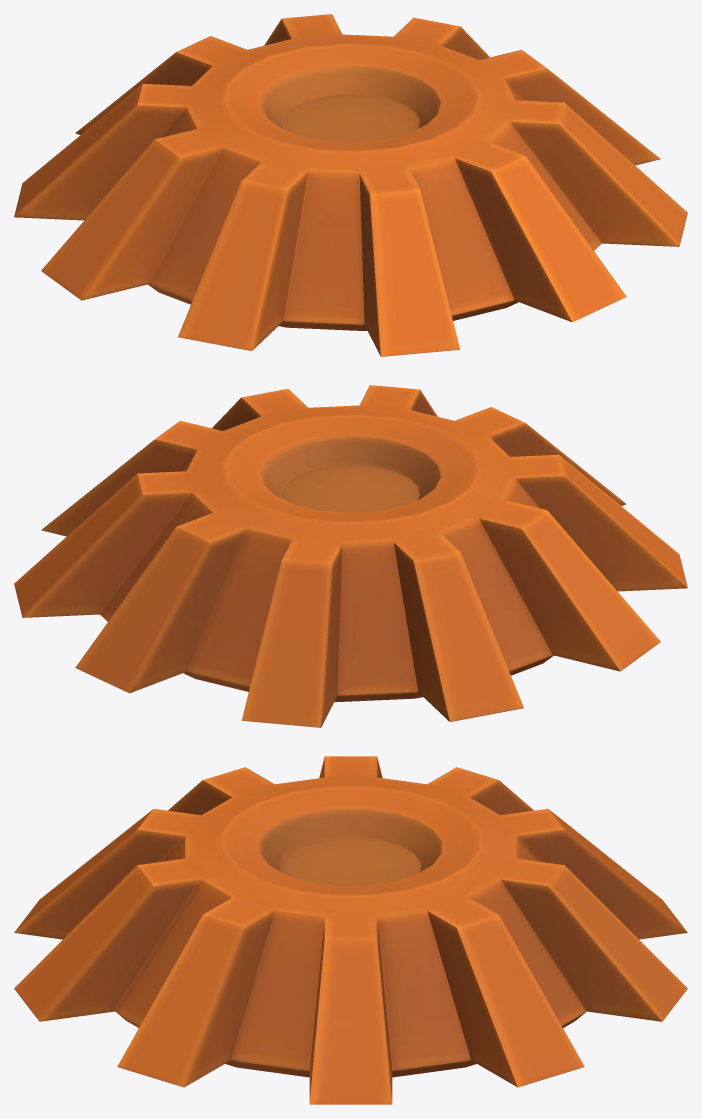
Rendered from obj_gear05_base.gltf.
The picture shows the model from 3 angles, top to bottom: view 1: azimuth 30°, elevation 25°; view 2: azimuth 150°, elevation 25°; view 3: azimuth 270°, elevation 25°; orthographic projection.
Parts seen in each view (by area): view 1: obj_gear05_base; view 2: obj_gear05_base; view 3: obj_gear05_base.
Part boxes in pixels (x1,y1,x2,y2): obj_gear05_base: (14, 14, 687, 356); obj_gear05_base: (14, 385, 687, 727); obj_gear05_base: (14, 756, 687, 1104).
Size of what is drawn, in the model's own units: 0.3429 by 0.0729 by 0.339.
Materials: 1 (1 with a texture image).
